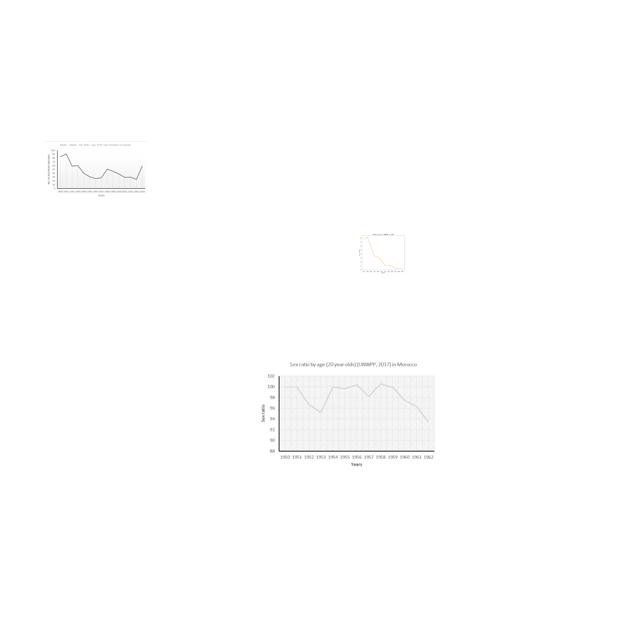Graph: (256, 361, 437, 470), (45, 141, 147, 199), (350, 230, 415, 275)
